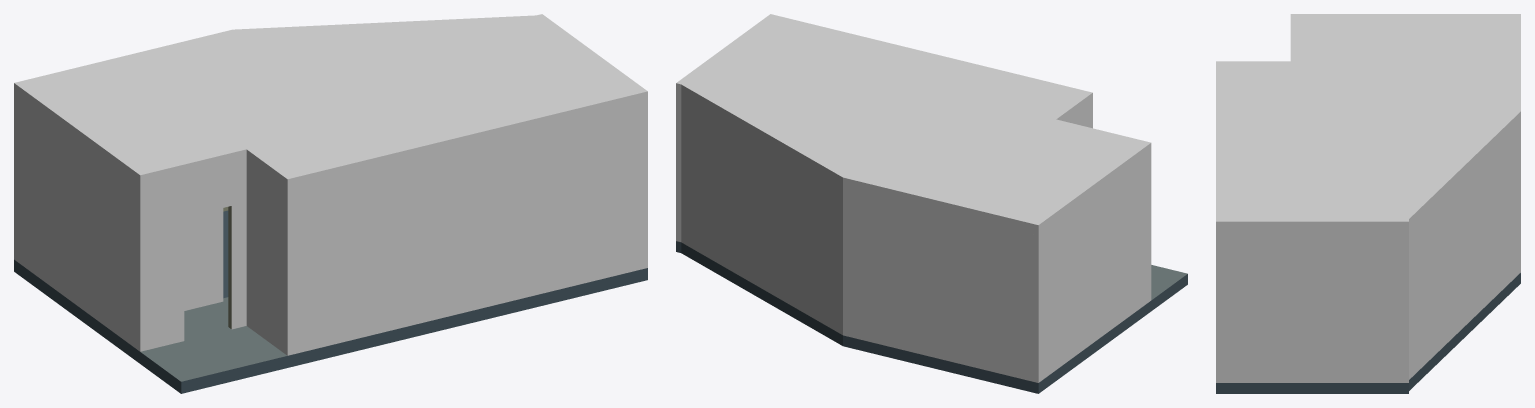
The model's file is House_Shell2.fbx.
The picture shows the model from 3 angles, left to right: view 1: azimuth 30°, elevation 25°; view 2: azimuth 150°, elevation 25°; view 3: azimuth 270°, elevation 25°; orthographic projection. The views are drawn at different scales.
Parts seen in each view (by area): view 1: Walls, Ceiling, Floor; view 2: Walls, Ceiling, Floor; view 3: Ceiling, Walls, Floor.
Boxes of the visible parts, <box> form: Walls: <box>14,95,647,355</box>; Ceiling: <box>14,14,647,191</box>; Floor: <box>14,210,647,393</box>; Walls: <box>676,94,1151,382</box>; Ceiling: <box>676,14,1151,235</box>; Floor: <box>676,241,1187,393</box>; Ceiling: <box>1216,14,1520,232</box>; Walls: <box>1216,123,1520,382</box>; Floor: <box>1216,273,1520,393</box>.
Size of the model in its own units: 802 by 310 by 498.
